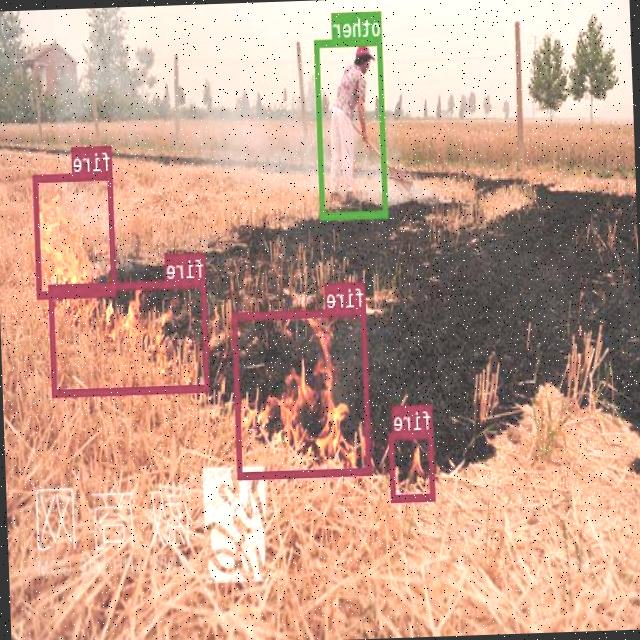fire: (233, 307, 372, 477), (48, 277, 210, 394), (34, 170, 117, 298), (390, 431, 435, 500)
